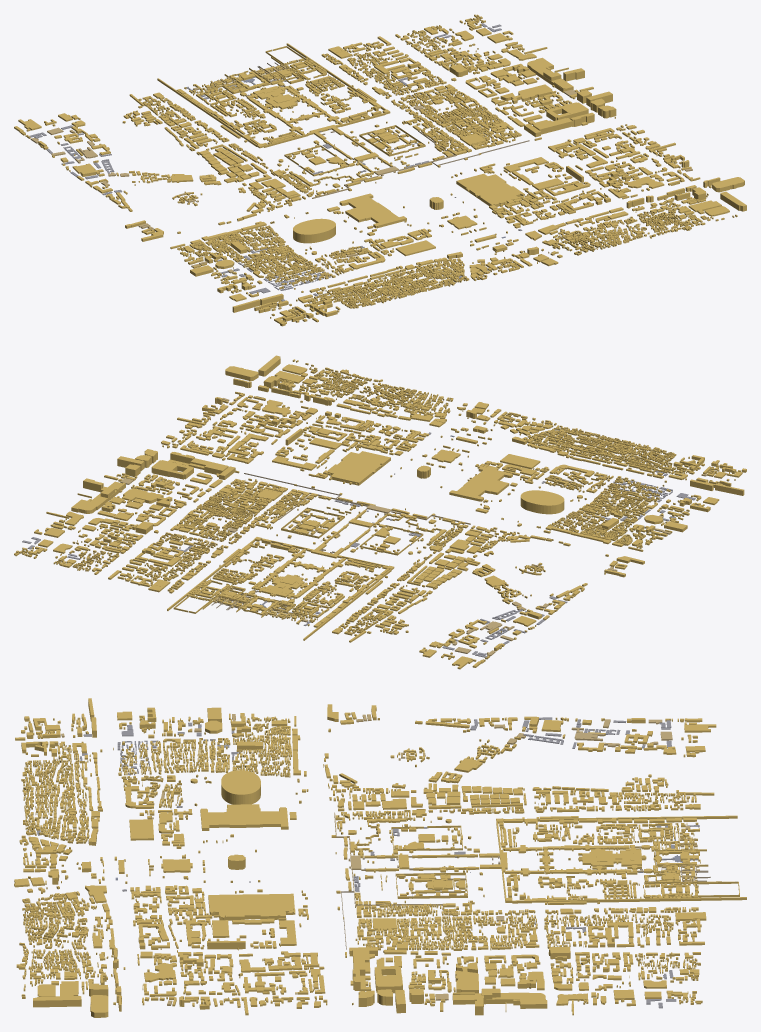
The model's file is buildings.glb.
3 renders of one model, top to bottom at view 1: azimuth 30°, elevation 25°; view 2: azimuth 150°, elevation 25°; view 3: azimuth 270°, elevation 25°, orthographic. The views are drawn at different scales.
Visible parts, largest first — view 1: buildings; view 2: buildings; view 3: buildings.
Part boxes in pixels (<box>): buildings: <box>14,14,746,326</box>; buildings: <box>14,355,746,669</box>; buildings: <box>14,698,746,1017</box>.
Bounding box in the file's own units: 2873 × 71.91 × 2831.
